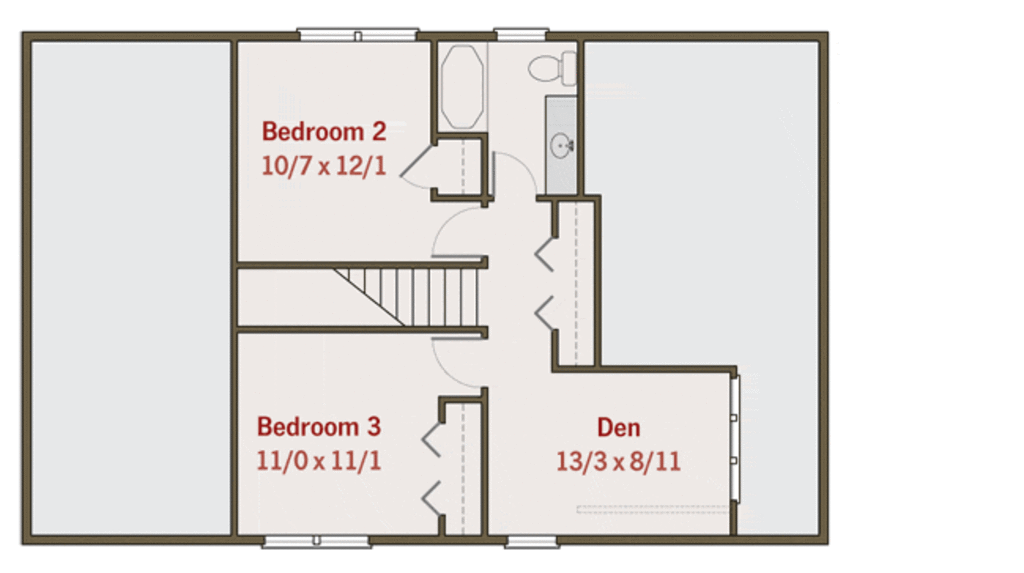door: (422, 328, 491, 390), (427, 203, 489, 260), (391, 139, 442, 195), (488, 146, 541, 199)
small_sink: (540, 94, 585, 197), (525, 49, 575, 87)
stairs: (290, 263, 488, 334)
tub: (434, 37, 488, 135)
window: (293, 22, 419, 45), (262, 529, 374, 551), (505, 532, 565, 553), (496, 24, 550, 47)
